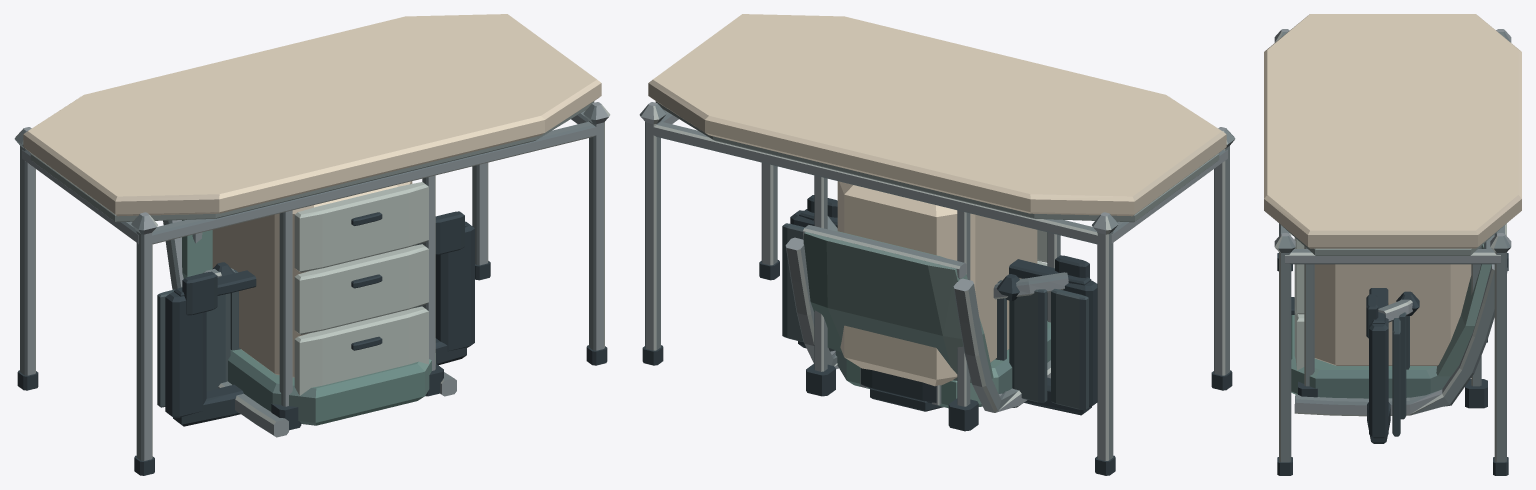
Rendered from desk-v2.glb.
3 renders of one model, left to right at view 1: azimuth 30°, elevation 25°; view 2: azimuth 150°, elevation 25°; view 3: azimuth 270°, elevation 25°, orthographic. The views are drawn at different scales.
Parts seen in each view (by area): view 1: BureauUSM, CaissonUSM, EcranLarge, SetuAssise, SupportEcrans; view 2: BureauUSM, SetuAssise, CaissonUSM, EcranLarge, SupportEcrans, Tour; view 3: BureauUSM, CaissonUSM, SetuAssise, EcranLarge, SupportEcrans.
Part boxes in pixels (bbox=[...]): BureauUSM: bbox=[14, 14, 610, 475]; CaissonUSM: bbox=[192, 175, 443, 430]; EcranLarge: bbox=[157, 221, 474, 426]; SetuAssise: bbox=[163, 220, 456, 437]; SupportEcrans: bbox=[182, 211, 464, 315]; BureauUSM: bbox=[639, 14, 1235, 475]; SetuAssise: bbox=[785, 225, 1050, 412]; CaissonUSM: bbox=[806, 175, 1060, 431]; EcranLarge: bbox=[782, 209, 1097, 415]; SupportEcrans: bbox=[807, 195, 1089, 300]; Tour: bbox=[860, 368, 943, 411]; BureauUSM: bbox=[1264, 14, 1521, 475]; CaissonUSM: bbox=[1291, 237, 1487, 408]; SetuAssise: bbox=[1291, 234, 1507, 416]; EcranLarge: bbox=[1367, 288, 1409, 443]; SupportEcrans: bbox=[1366, 291, 1419, 338].
Size of the model in its own units: 1.43 by 0.8043 by 0.71.
